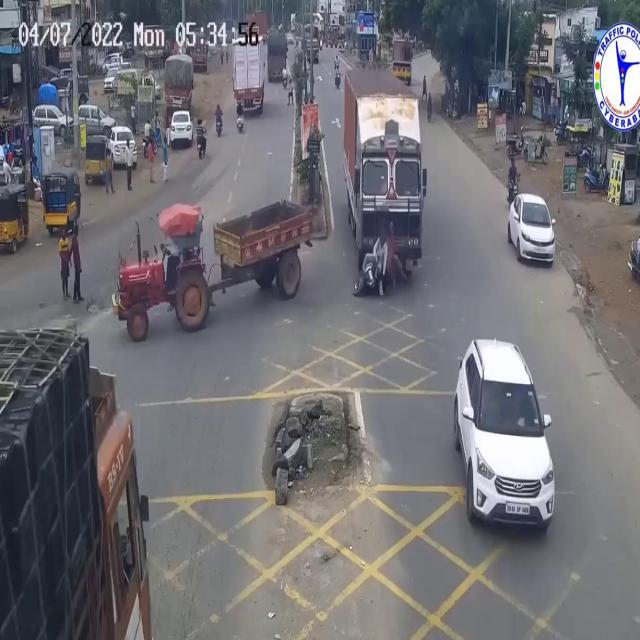accident: (338, 61, 432, 311)
non_accident: (78, 93, 140, 195), (161, 47, 197, 153)
